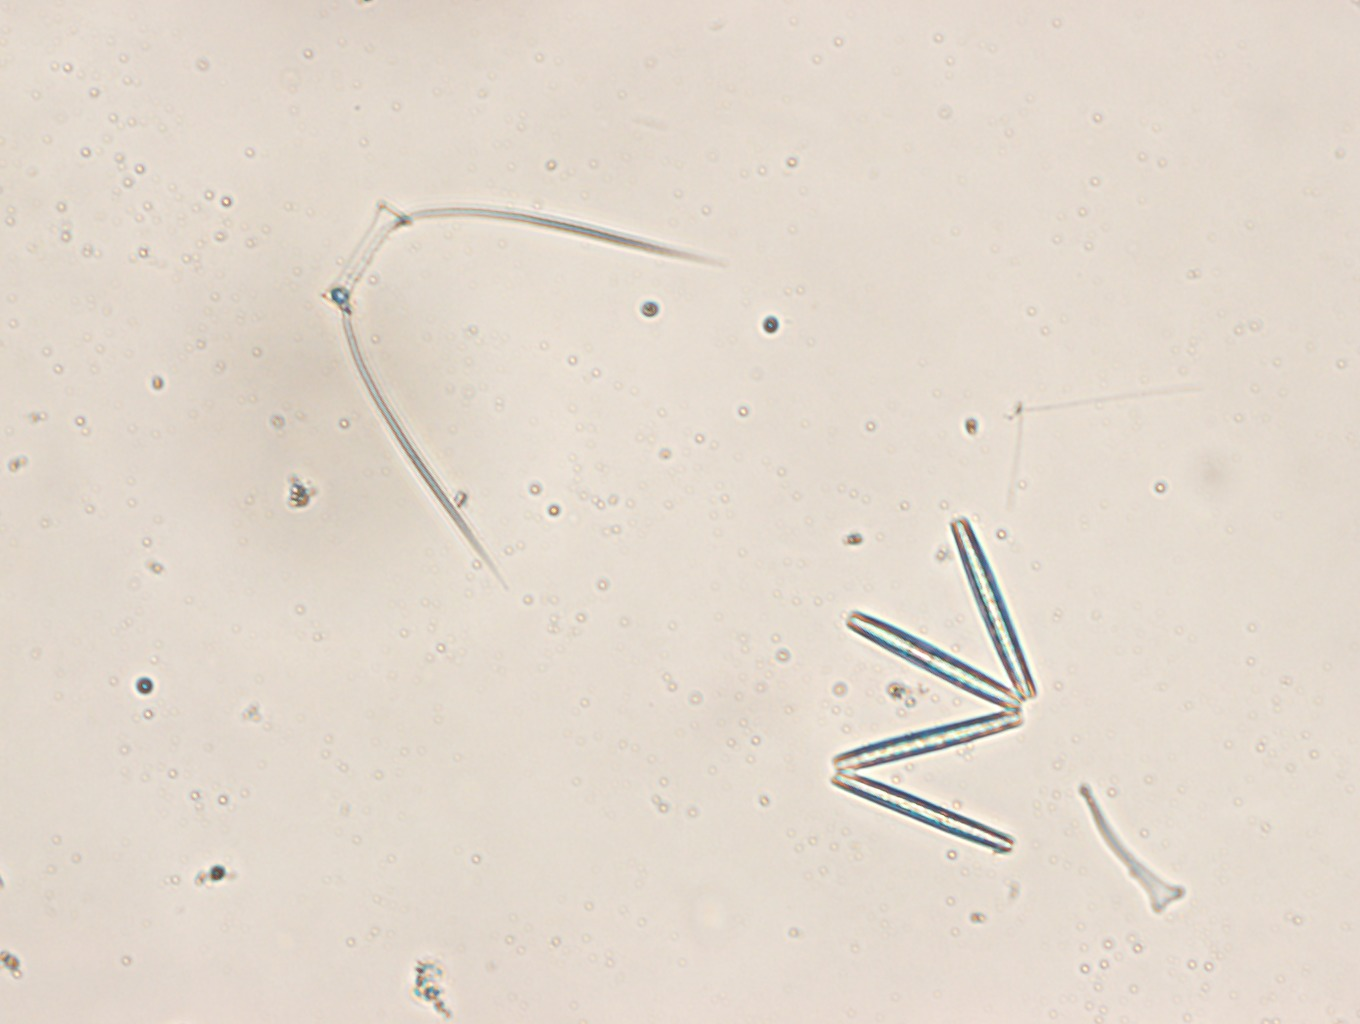chaetoceros: (320, 201, 730, 591)
thalassionema nitzschioides: (830, 520, 1040, 855)
